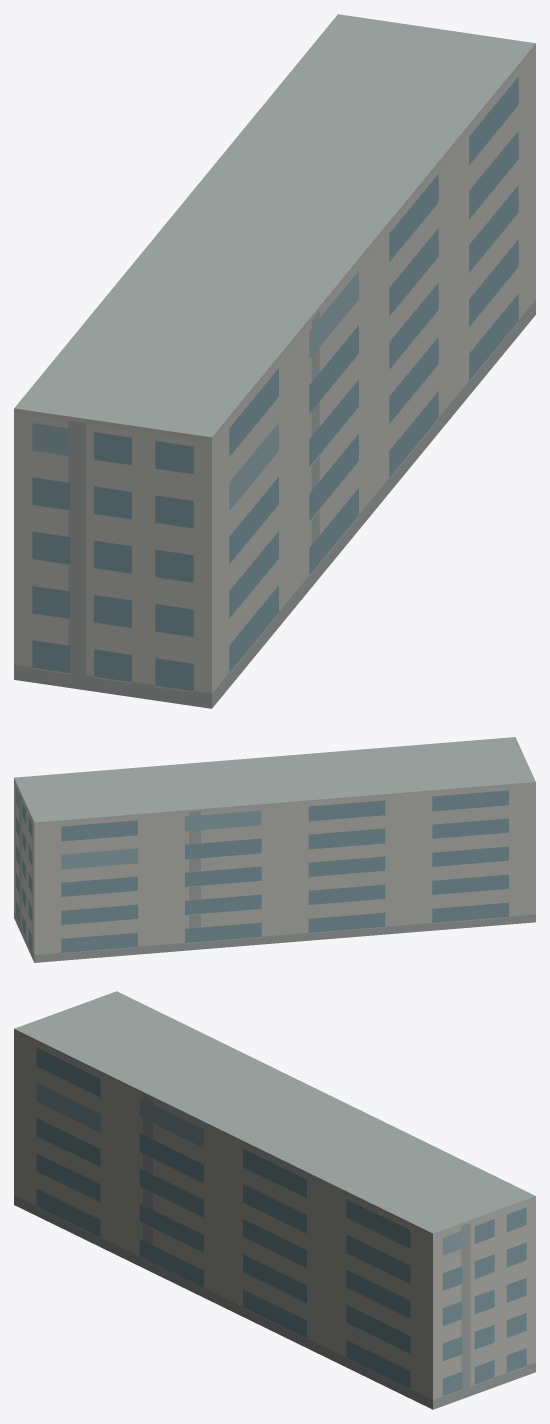
Rendered from residential-1a358a09-d0f8-40bb-927f-da1bb044d1bd.glb.
3 renders of one model, top to bottom at view 1: azimuth 30°, elevation 25°; view 2: azimuth 150°, elevation 25°; view 3: azimuth 270°, elevation 25°, orthographic. The views are drawn at different scales.
Parts seen in each view (by area): view 1: residential-1a358a09-d0f8-40bb-927f-da1bb044d1bd.tmp; view 2: residential-1a358a09-d0f8-40bb-927f-da1bb044d1bd.tmp; view 3: residential-1a358a09-d0f8-40bb-927f-da1bb044d1bd.tmp.
Boxes of the visible parts, x1,y1,x2,y2 form: residential-1a358a09-d0f8-40bb-927f-da1bb044d1bd.tmp: [14, 14, 535, 708]; residential-1a358a09-d0f8-40bb-927f-da1bb044d1bd.tmp: [14, 737, 535, 962]; residential-1a358a09-d0f8-40bb-927f-da1bb044d1bd.tmp: [14, 991, 535, 1409].
Size of the model in its own units: 45.01 by 15.25 by 40.95.
